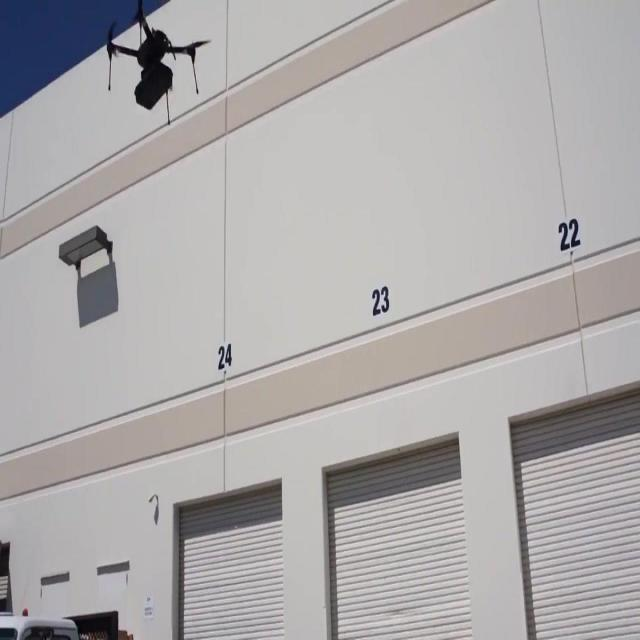UAV: (106, 0, 211, 125)
